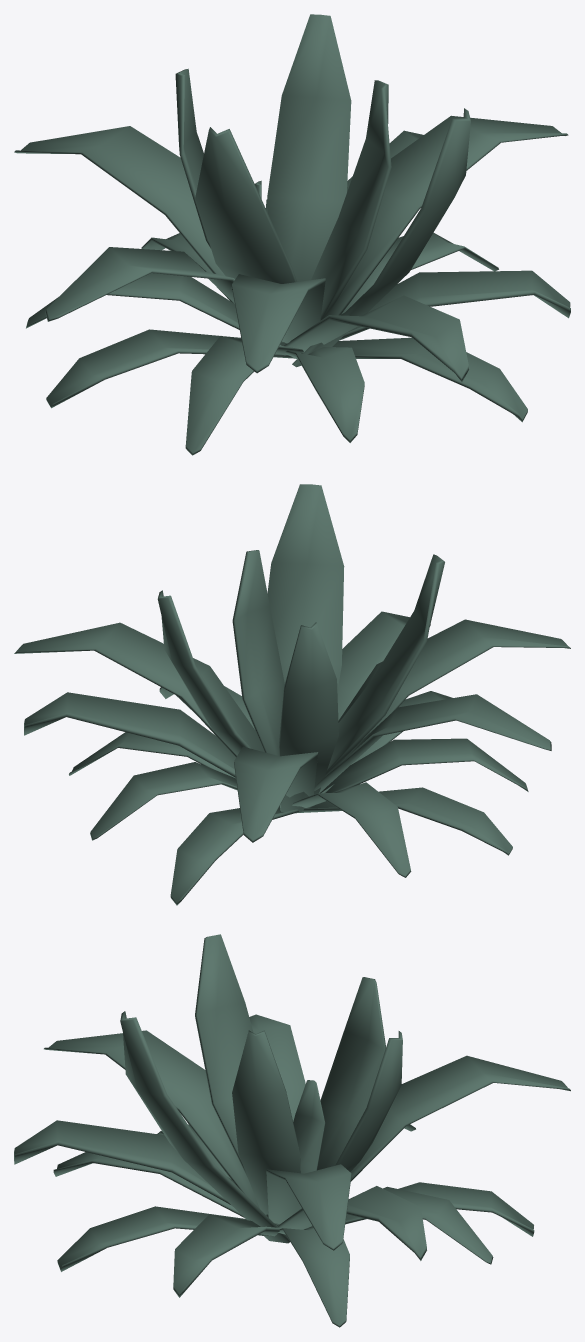
The model's file is cactus_agave.fbx.
3 renders of one model, top to bottom at view 1: azimuth 30°, elevation 25°; view 2: azimuth 150°, elevation 25°; view 3: azimuth 270°, elevation 25°, orthographic. The views are drawn at different scales.
Parts seen in each view (by area): view 1: Plane.010; view 2: Plane.010; view 3: Plane.010.
Part boxes in pixels (box(x1,y1,x2,y2)): Plane.010: box(14, 14, 570, 455); Plane.010: box(14, 484, 570, 905); Plane.010: box(14, 934, 570, 1327).
Size of the model in its own units: 210 by 104 by 205.
